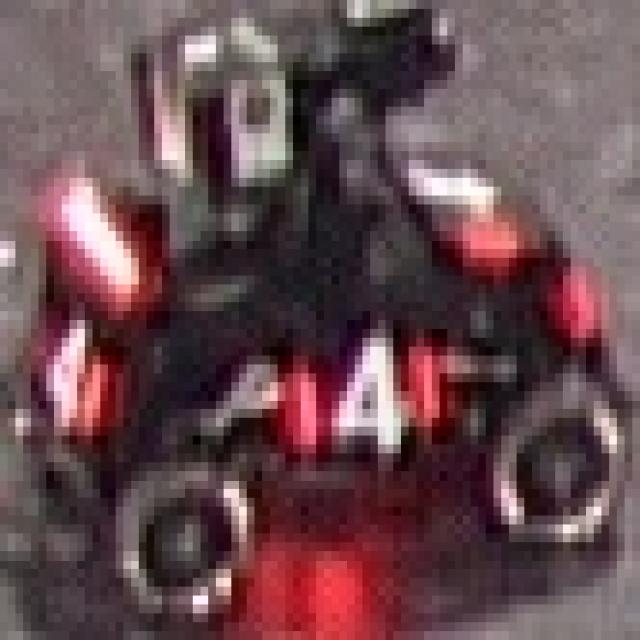R4: (262, 311, 455, 471), (15, 311, 116, 436)
